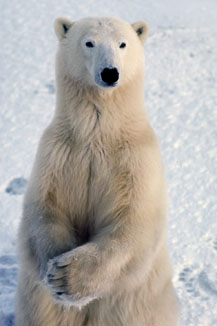Polar Bear: (29, 7, 197, 318)
